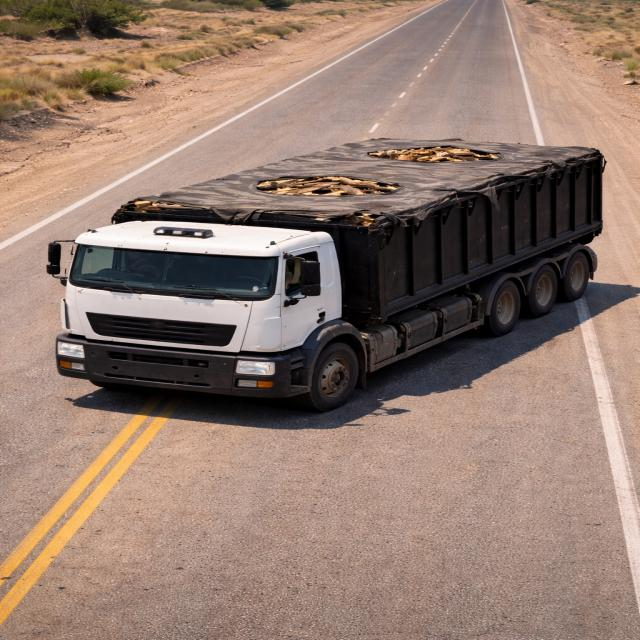trailer: (130, 138, 588, 216)
truck: (43, 129, 608, 411)
